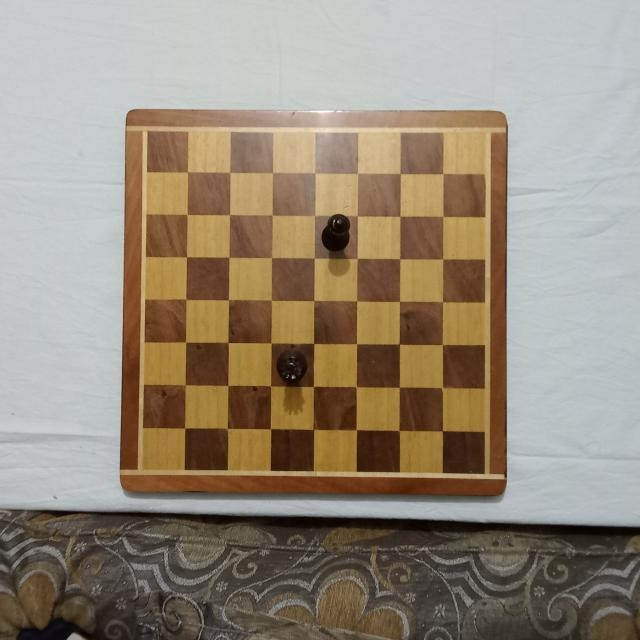black-king: (319, 212, 350, 252)
black-queen: (276, 349, 309, 387)
